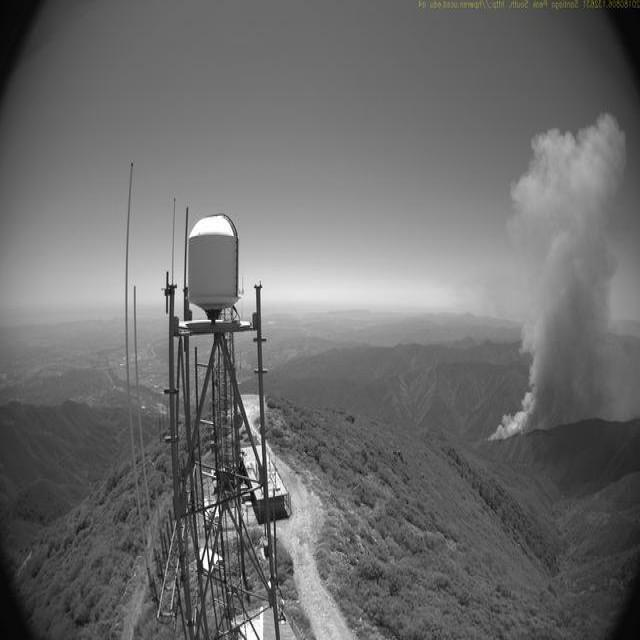Smoke: (488, 110, 640, 448)
